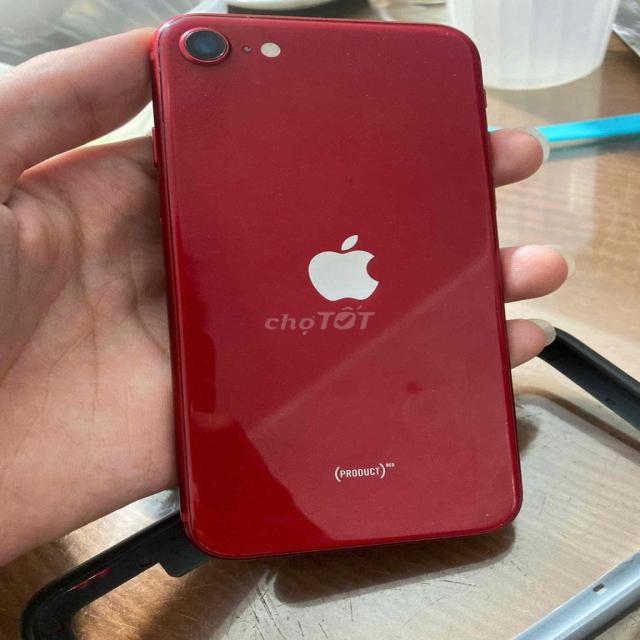gen_7_8: (138, 0, 526, 559)
scratch: (340, 31, 485, 93), (185, 11, 443, 29), (151, 11, 170, 123), (196, 536, 226, 554), (480, 506, 493, 520), (429, 519, 441, 528), (497, 520, 510, 528)
